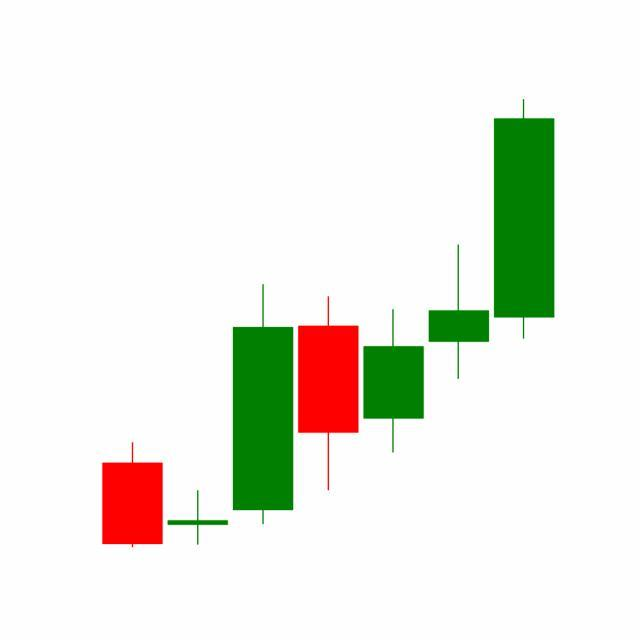Three Inside Up-Down: (295, 243, 492, 495)
